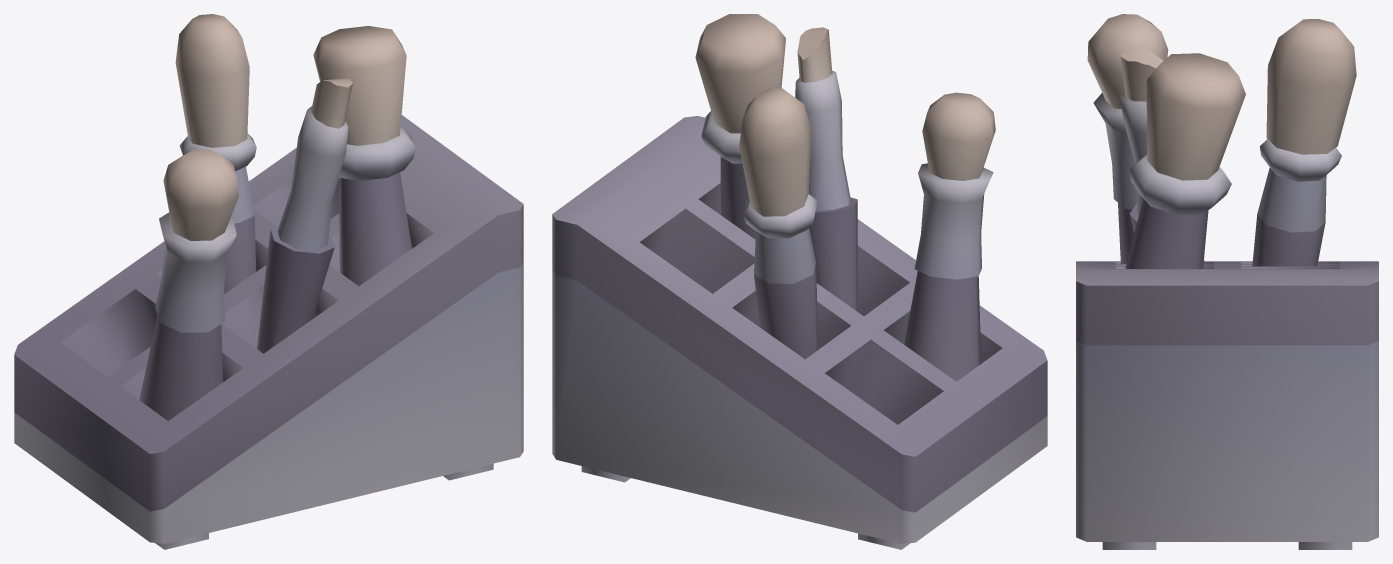
The model's file is makeup-display-brushes.glb.
3 renders of one model, left to right at view 1: azimuth 30°, elevation 25°; view 2: azimuth 150°, elevation 25°; view 3: azimuth 270°, elevation 25°, orthographic. The views are drawn at different scales.
Visible parts, largest first — view 1: makeup-display-brushes; view 2: makeup-display-brushes; view 3: makeup-display-brushes.
Part boxes in pixels (x1,y1,x2,y2): makeup-display-brushes: [14, 14, 523, 549]; makeup-display-brushes: [552, 14, 1047, 549]; makeup-display-brushes: [1076, 14, 1378, 549].
Size of the model in its own units: 0.3407 by 0.3701 by 0.2305.
